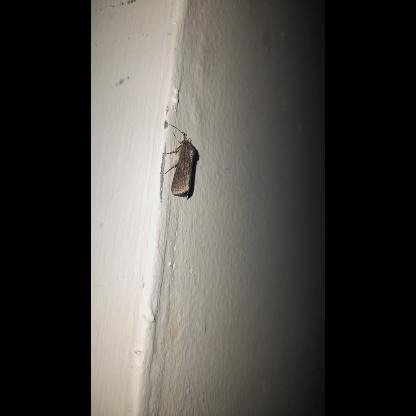Fall Armyworm Moth: (162, 120, 198, 200)
